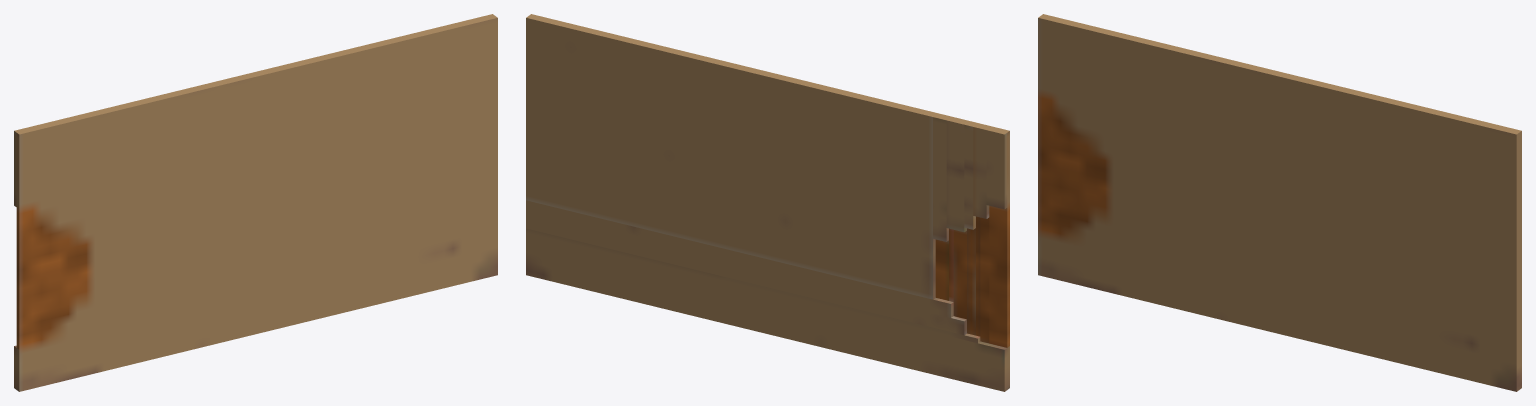
Rendered from WallRightSideModeratelyDamaged_A_00.fbx.
The picture shows the model from 3 angles, left to right: view 1: azimuth 30°, elevation 25°; view 2: azimuth 150°, elevation 25°; view 3: azimuth 330°, elevation 25°; orthographic projection.
Parts seen in each view (by area): view 1: WallRightSideModeratelyDamaged_A_00; view 2: WallRightSideModeratelyDamaged_A_00; view 3: WallRightSideModeratelyDamaged_A_00.
Boxes of the visible parts, x1=… form: WallRightSideModeratelyDamaged_A_00: x1=14, y1=14, x2=497, y2=391; WallRightSideModeratelyDamaged_A_00: x1=526, y1=14, x2=1009, y2=391; WallRightSideModeratelyDamaged_A_00: x1=1038, y1=14, x2=1521, y2=391.
Bounding box in the file's own units: 535 × 10 × 275.
1 material, 1 textured.
